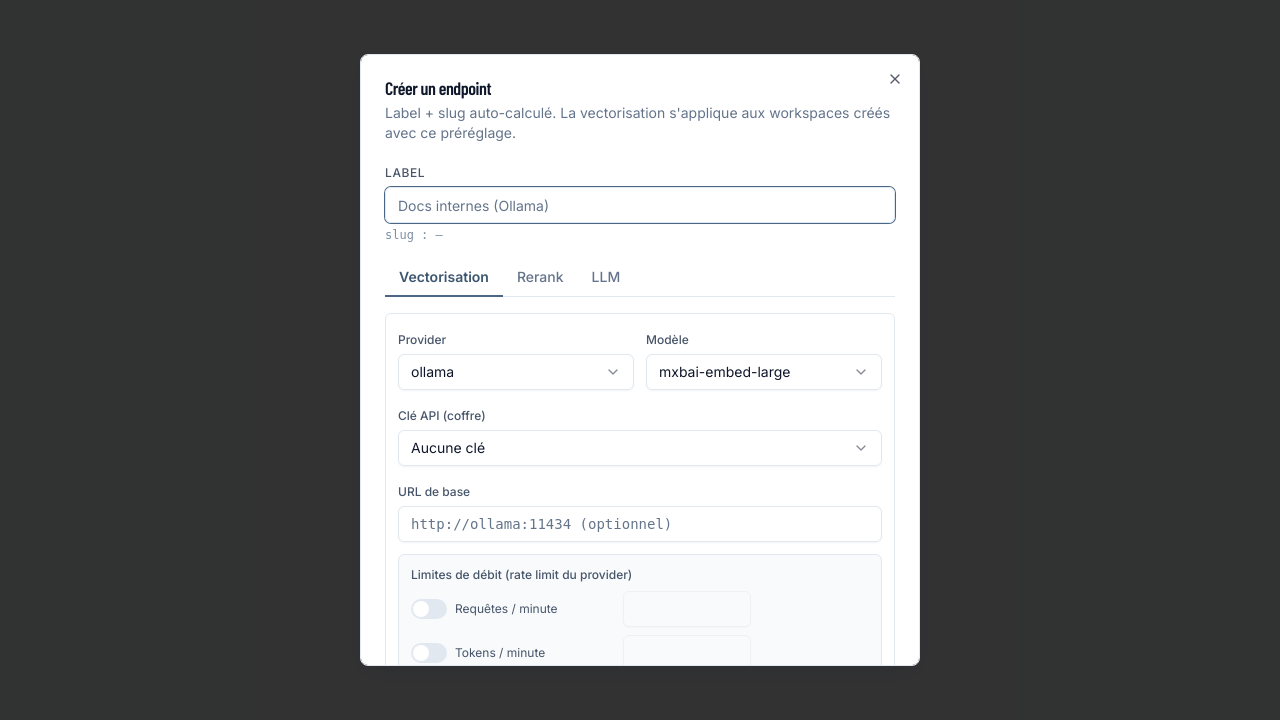
Test: EndpointFormDialog — onglets + test par service › URL de paramétrage sans masque → préremplit la Base URL à la sélection du modèle
Click the dropdown named "Modèle".
click(764, 372)  # box [646,354,882,390]
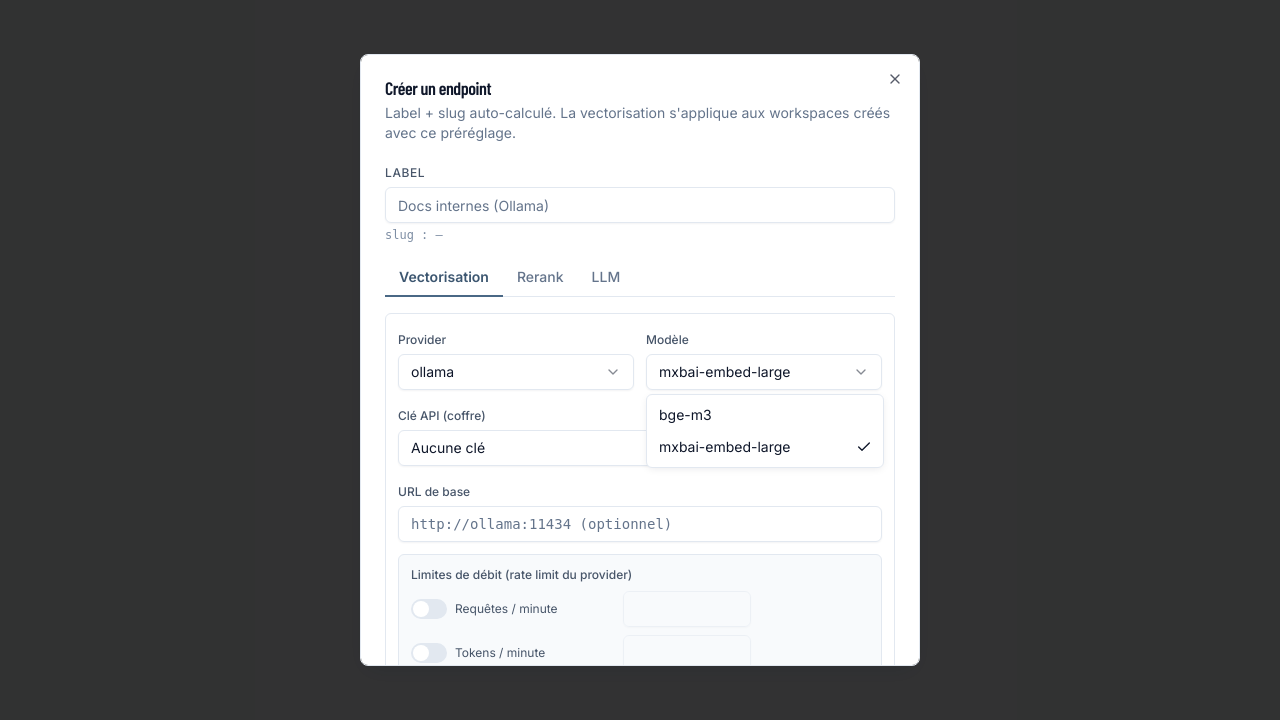
Click the option "bge-m3".
click(685, 414)  # box [659,406,712,423]
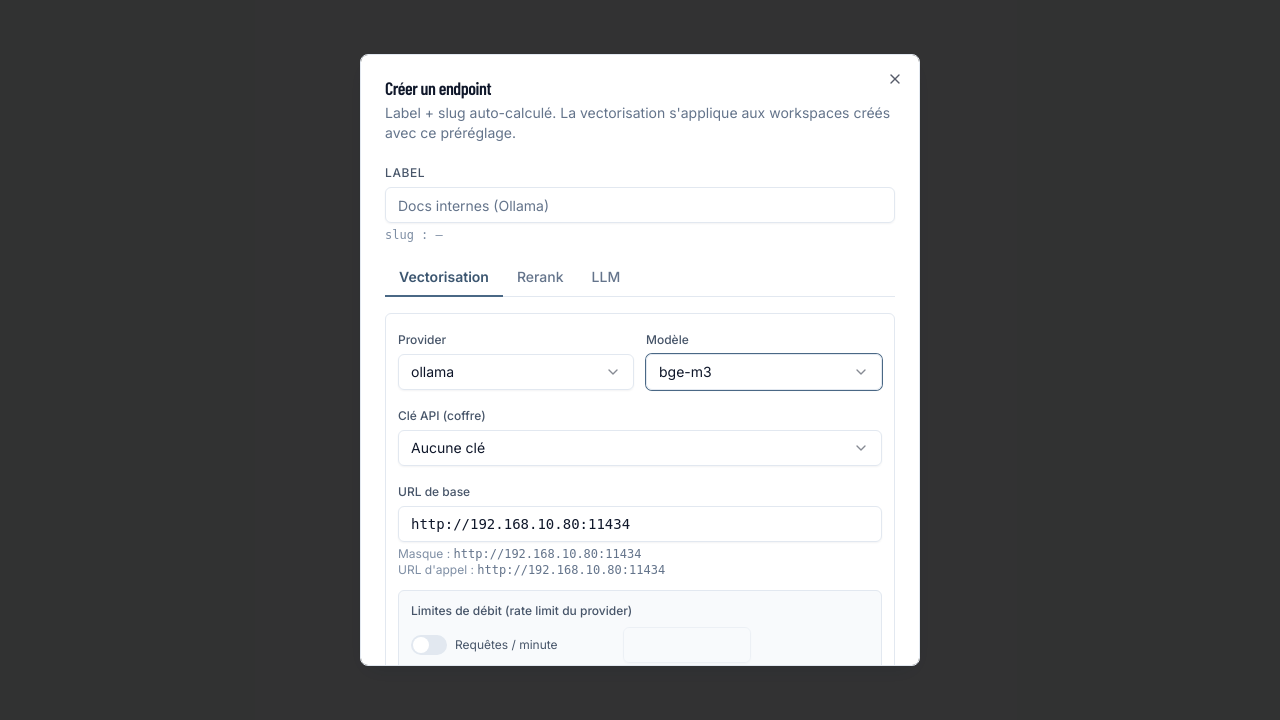
Check: the field with placeholder "http://ollama:11434 (optionnel)" holds "http://192.168.10.80:11434", box [398,506,882,542]
